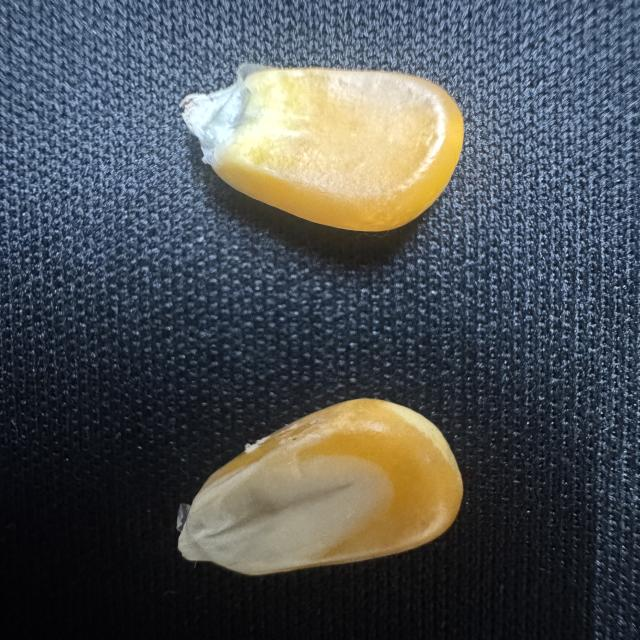Good-Seed: (172, 386, 472, 578), (172, 53, 475, 238)
